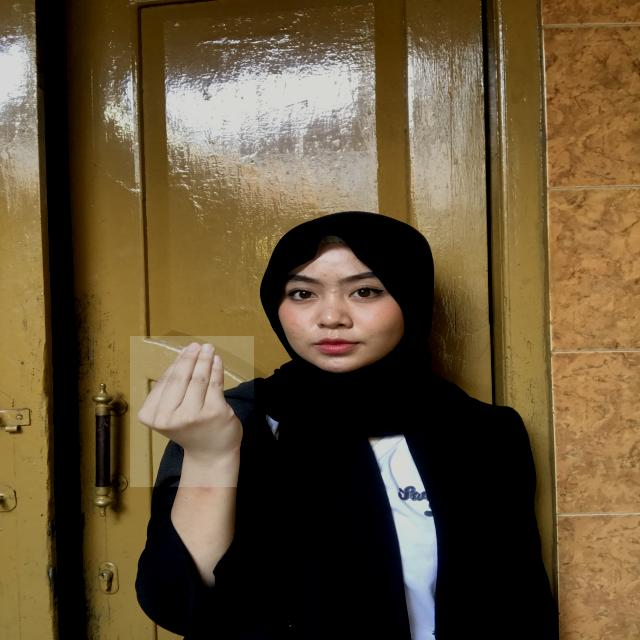kapan: (130, 336, 253, 487)
